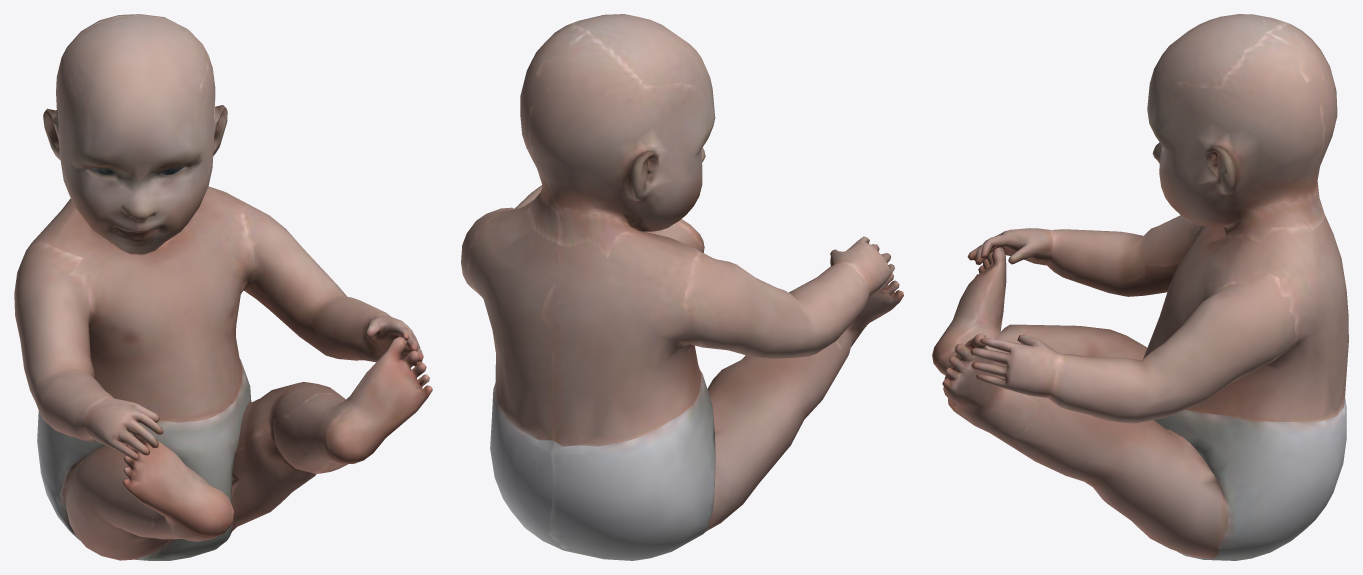
Rendered from bocilkopi.fbx.
3 renders of one model, left to right at view 1: azimuth 30°, elevation 25°; view 2: azimuth 150°, elevation 25°; view 3: azimuth 270°, elevation 25°, orthographic. The views are drawn at different scales.
Parts seen in each view (by area): view 1: baby.001; view 2: baby.001; view 3: baby.001.
Part boxes in pixels (x1,y1,x2,y2): baby.001: (14,14,432,560); baby.001: (461,14,903,560); baby.001: (932,14,1348,560).
Bounding box in the file's own units: 1306 × 1927 × 1418.
